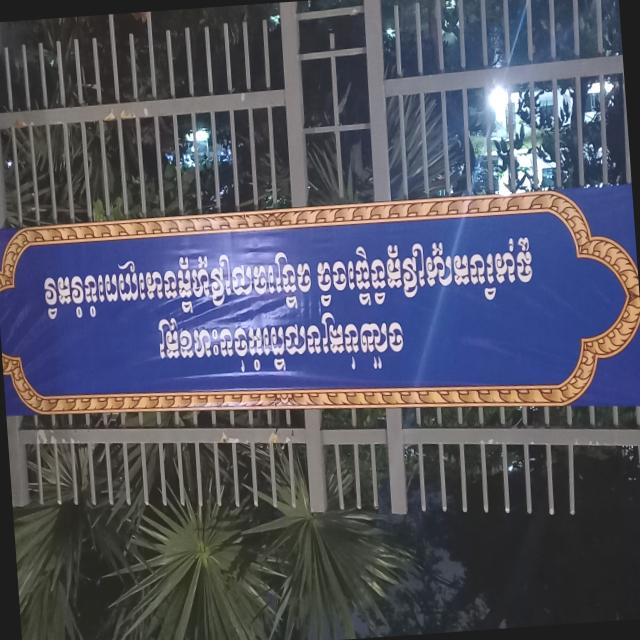2: (37, 224, 538, 325)
Yolov11kh: (153, 307, 408, 380)
